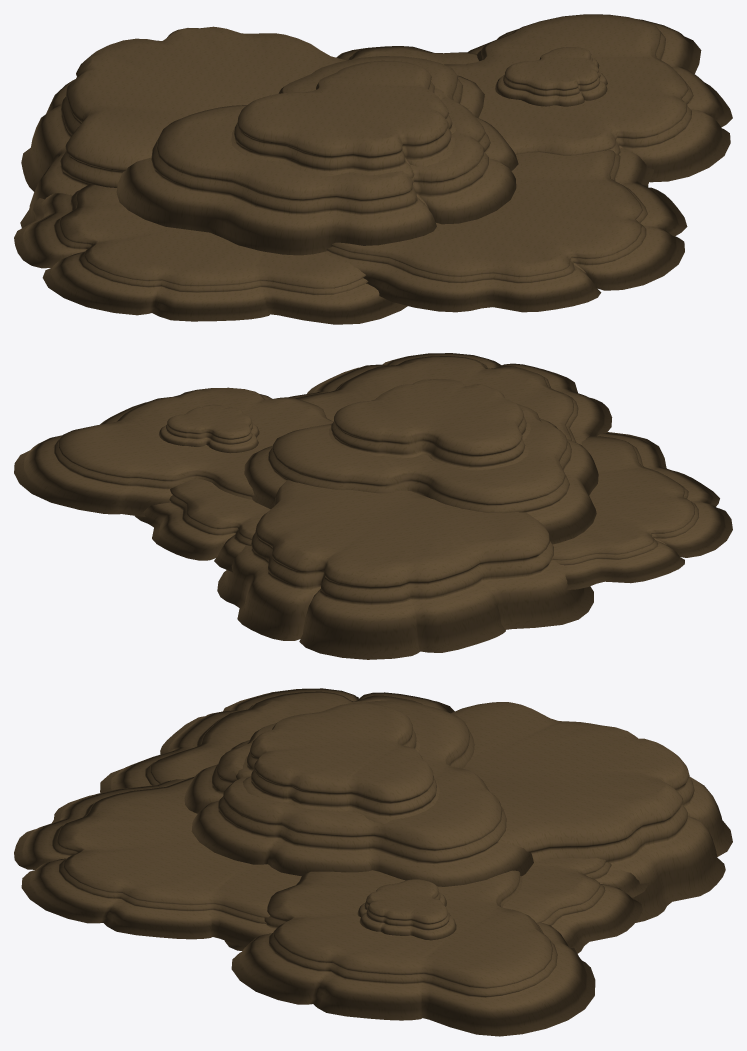
The model's file is island_compound_base.fbx.
The picture shows the model from 3 angles, top to bottom: view 1: azimuth 30°, elevation 25°; view 2: azimuth 150°, elevation 25°; view 3: azimuth 270°, elevation 25°; orthographic projection. The views are drawn at different scales.
Parts seen in each view (by area): view 1: CastleBase4; view 2: CastleBase4; view 3: CastleBase4.
Part boxes in pixels (x1,y1,x2,y2): CastleBase4: [14, 14, 732, 324]; CastleBase4: [14, 353, 732, 659]; CastleBase4: [14, 688, 732, 1036].
Size of the model in its own units: 554 by 93.04 by 485.
Materials: 1 (1 with a texture image).
